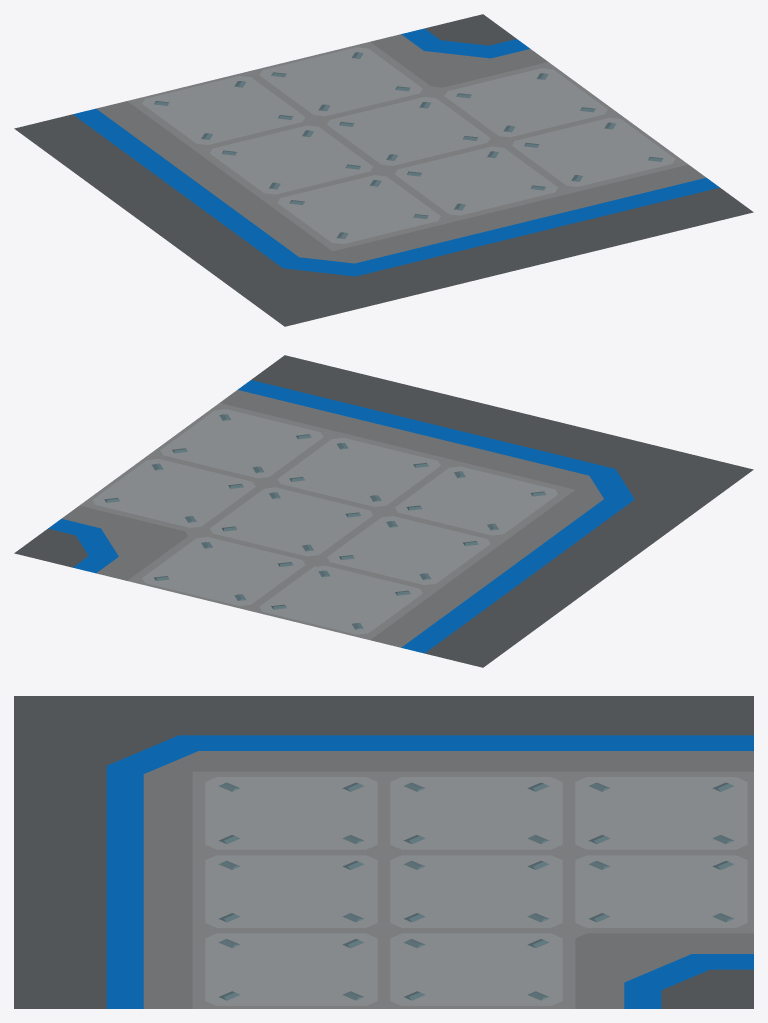
Rendered from Floor_type_B_005.fbx.
The picture shows the model from 3 angles, top to bottom: view 1: azimuth 30°, elevation 25°; view 2: azimuth 150°, elevation 25°; view 3: azimuth 270°, elevation 25°; orthographic projection. The views are drawn at different scales.
Visible parts, largest first — view 1: Floor_type_B_005; view 2: Floor_type_B_005; view 3: Floor_type_B_005.
Part boxes in pixels (x1,y1,x2,y2): Floor_type_B_005: [14, 14, 753, 326]; Floor_type_B_005: [14, 355, 753, 667]; Floor_type_B_005: [14, 696, 753, 1008].
Size of the model in its own units: 400 by 400 by 0.8.
